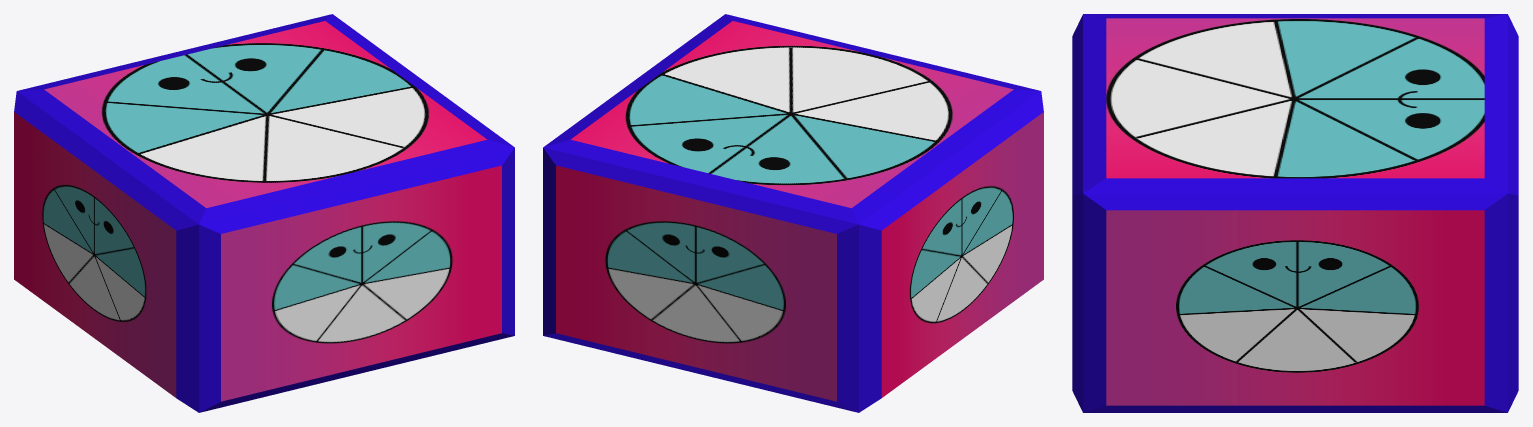
File: Fracciones cuatro septimos.fbx
The picture shows the model from 3 angles, left to right: view 1: azimuth 30°, elevation 25°; view 2: azimuth 150°, elevation 25°; view 3: azimuth 270°, elevation 25°; orthographic projection. The views are drawn at different scales.
Visible parts, largest first — view 1: 4/7; view 2: 4/7; view 3: 4/7.
Boxes of the visible parts, left/top/right/bottom form: 4/7: left=14, top=14, right=514, bottom=412; 4/7: left=543, top=14, right=1043, bottom=412; 4/7: left=1072, top=14, right=1518, bottom=412.
Size of the model in its own units: 213 by 120 by 210.
Materials: 2 (1 with a texture image).
